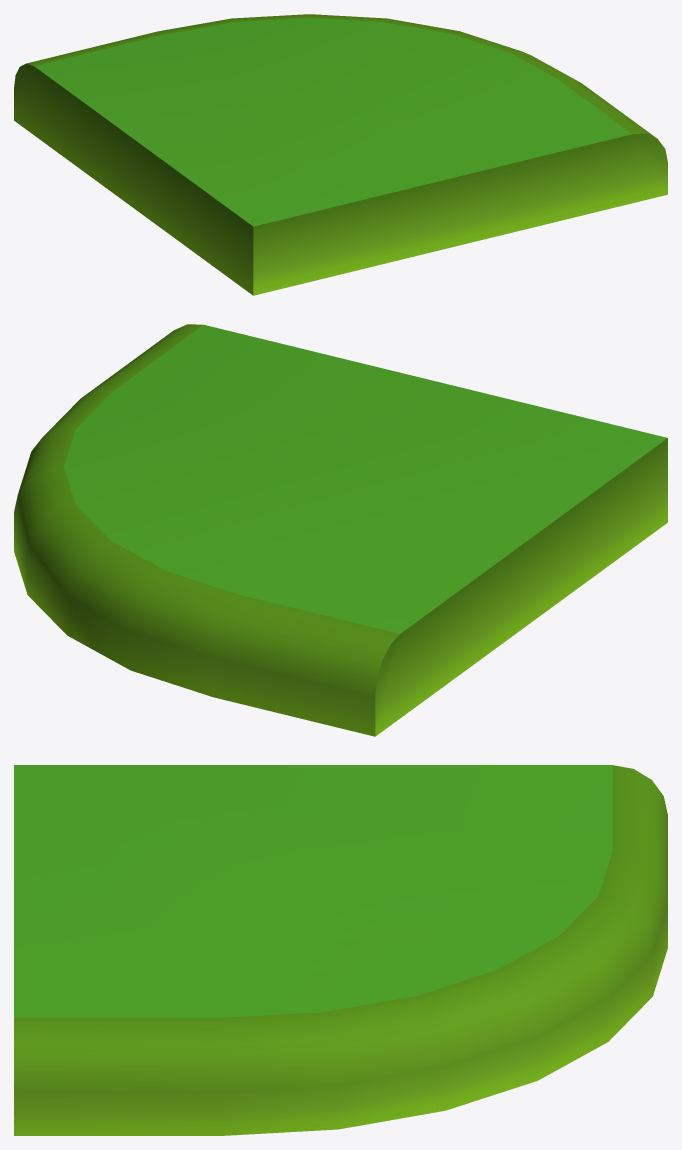
The model's file is GF_Corner_1_2.obj.
3 renders of one model, top to bottom at view 1: azimuth 30°, elevation 25°; view 2: azimuth 150°, elevation 25°; view 3: azimuth 270°, elevation 25°, orthographic. The views are drawn at different scales.
Visible parts, largest first — view 1: GF_Corner_1_2; view 2: GF_Corner_1_2; view 3: GF_Corner_1_2.
Part boxes in pixels (x1,y1,x2,y2): GF_Corner_1_2: (14, 14, 667, 295); GF_Corner_1_2: (14, 324, 667, 736); GF_Corner_1_2: (14, 765, 667, 1135).
Bounding box in the file's own units: 2 × 0.3187 × 2.
